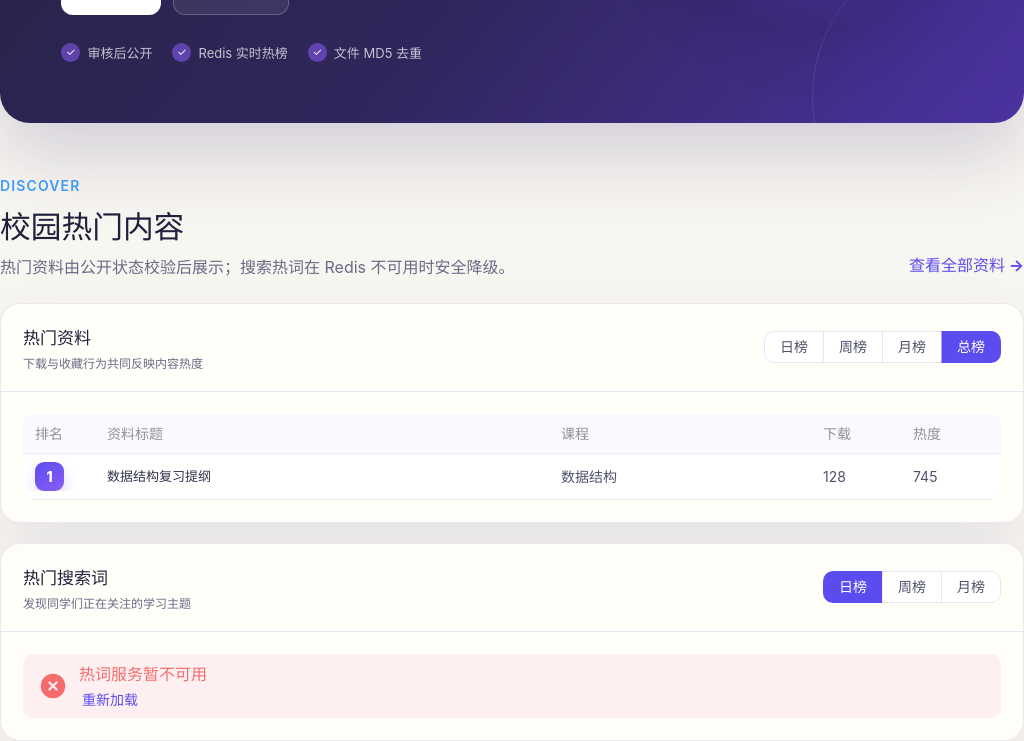
HomeView › 热门关键词加载失败后应支持重新加载
(page scrolled)
Click the button with test id "retry-keyword-ranking".
click(110, 700)  # box [79,690,141,710]
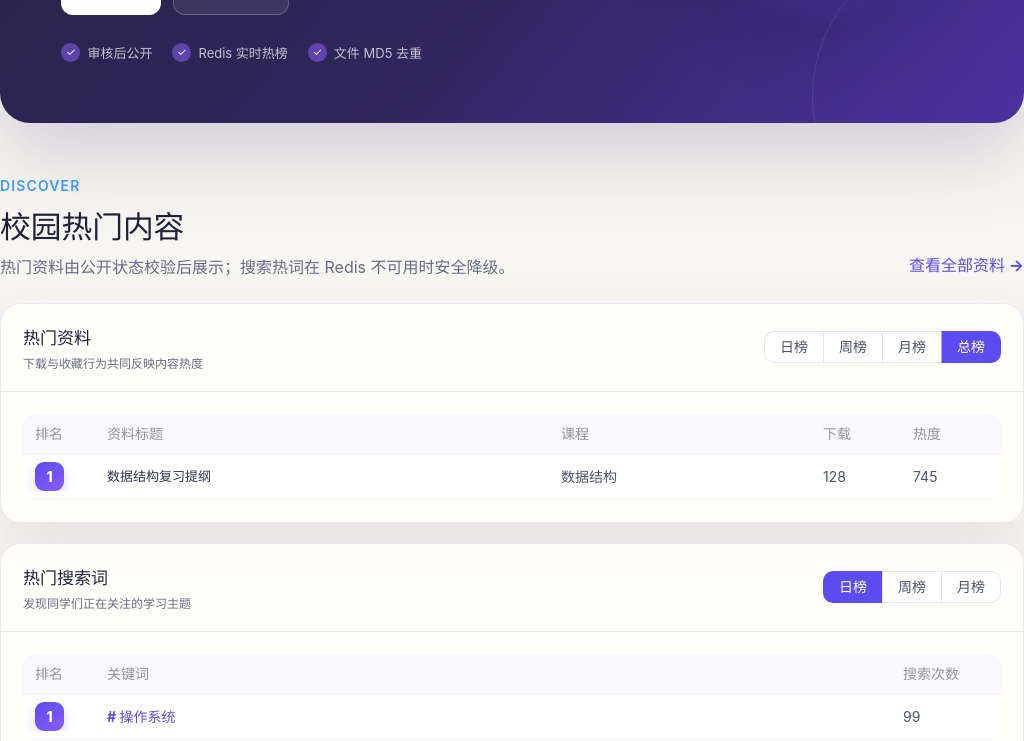
Check: the text "操作系统" is shown, box [107,708,175,725]
